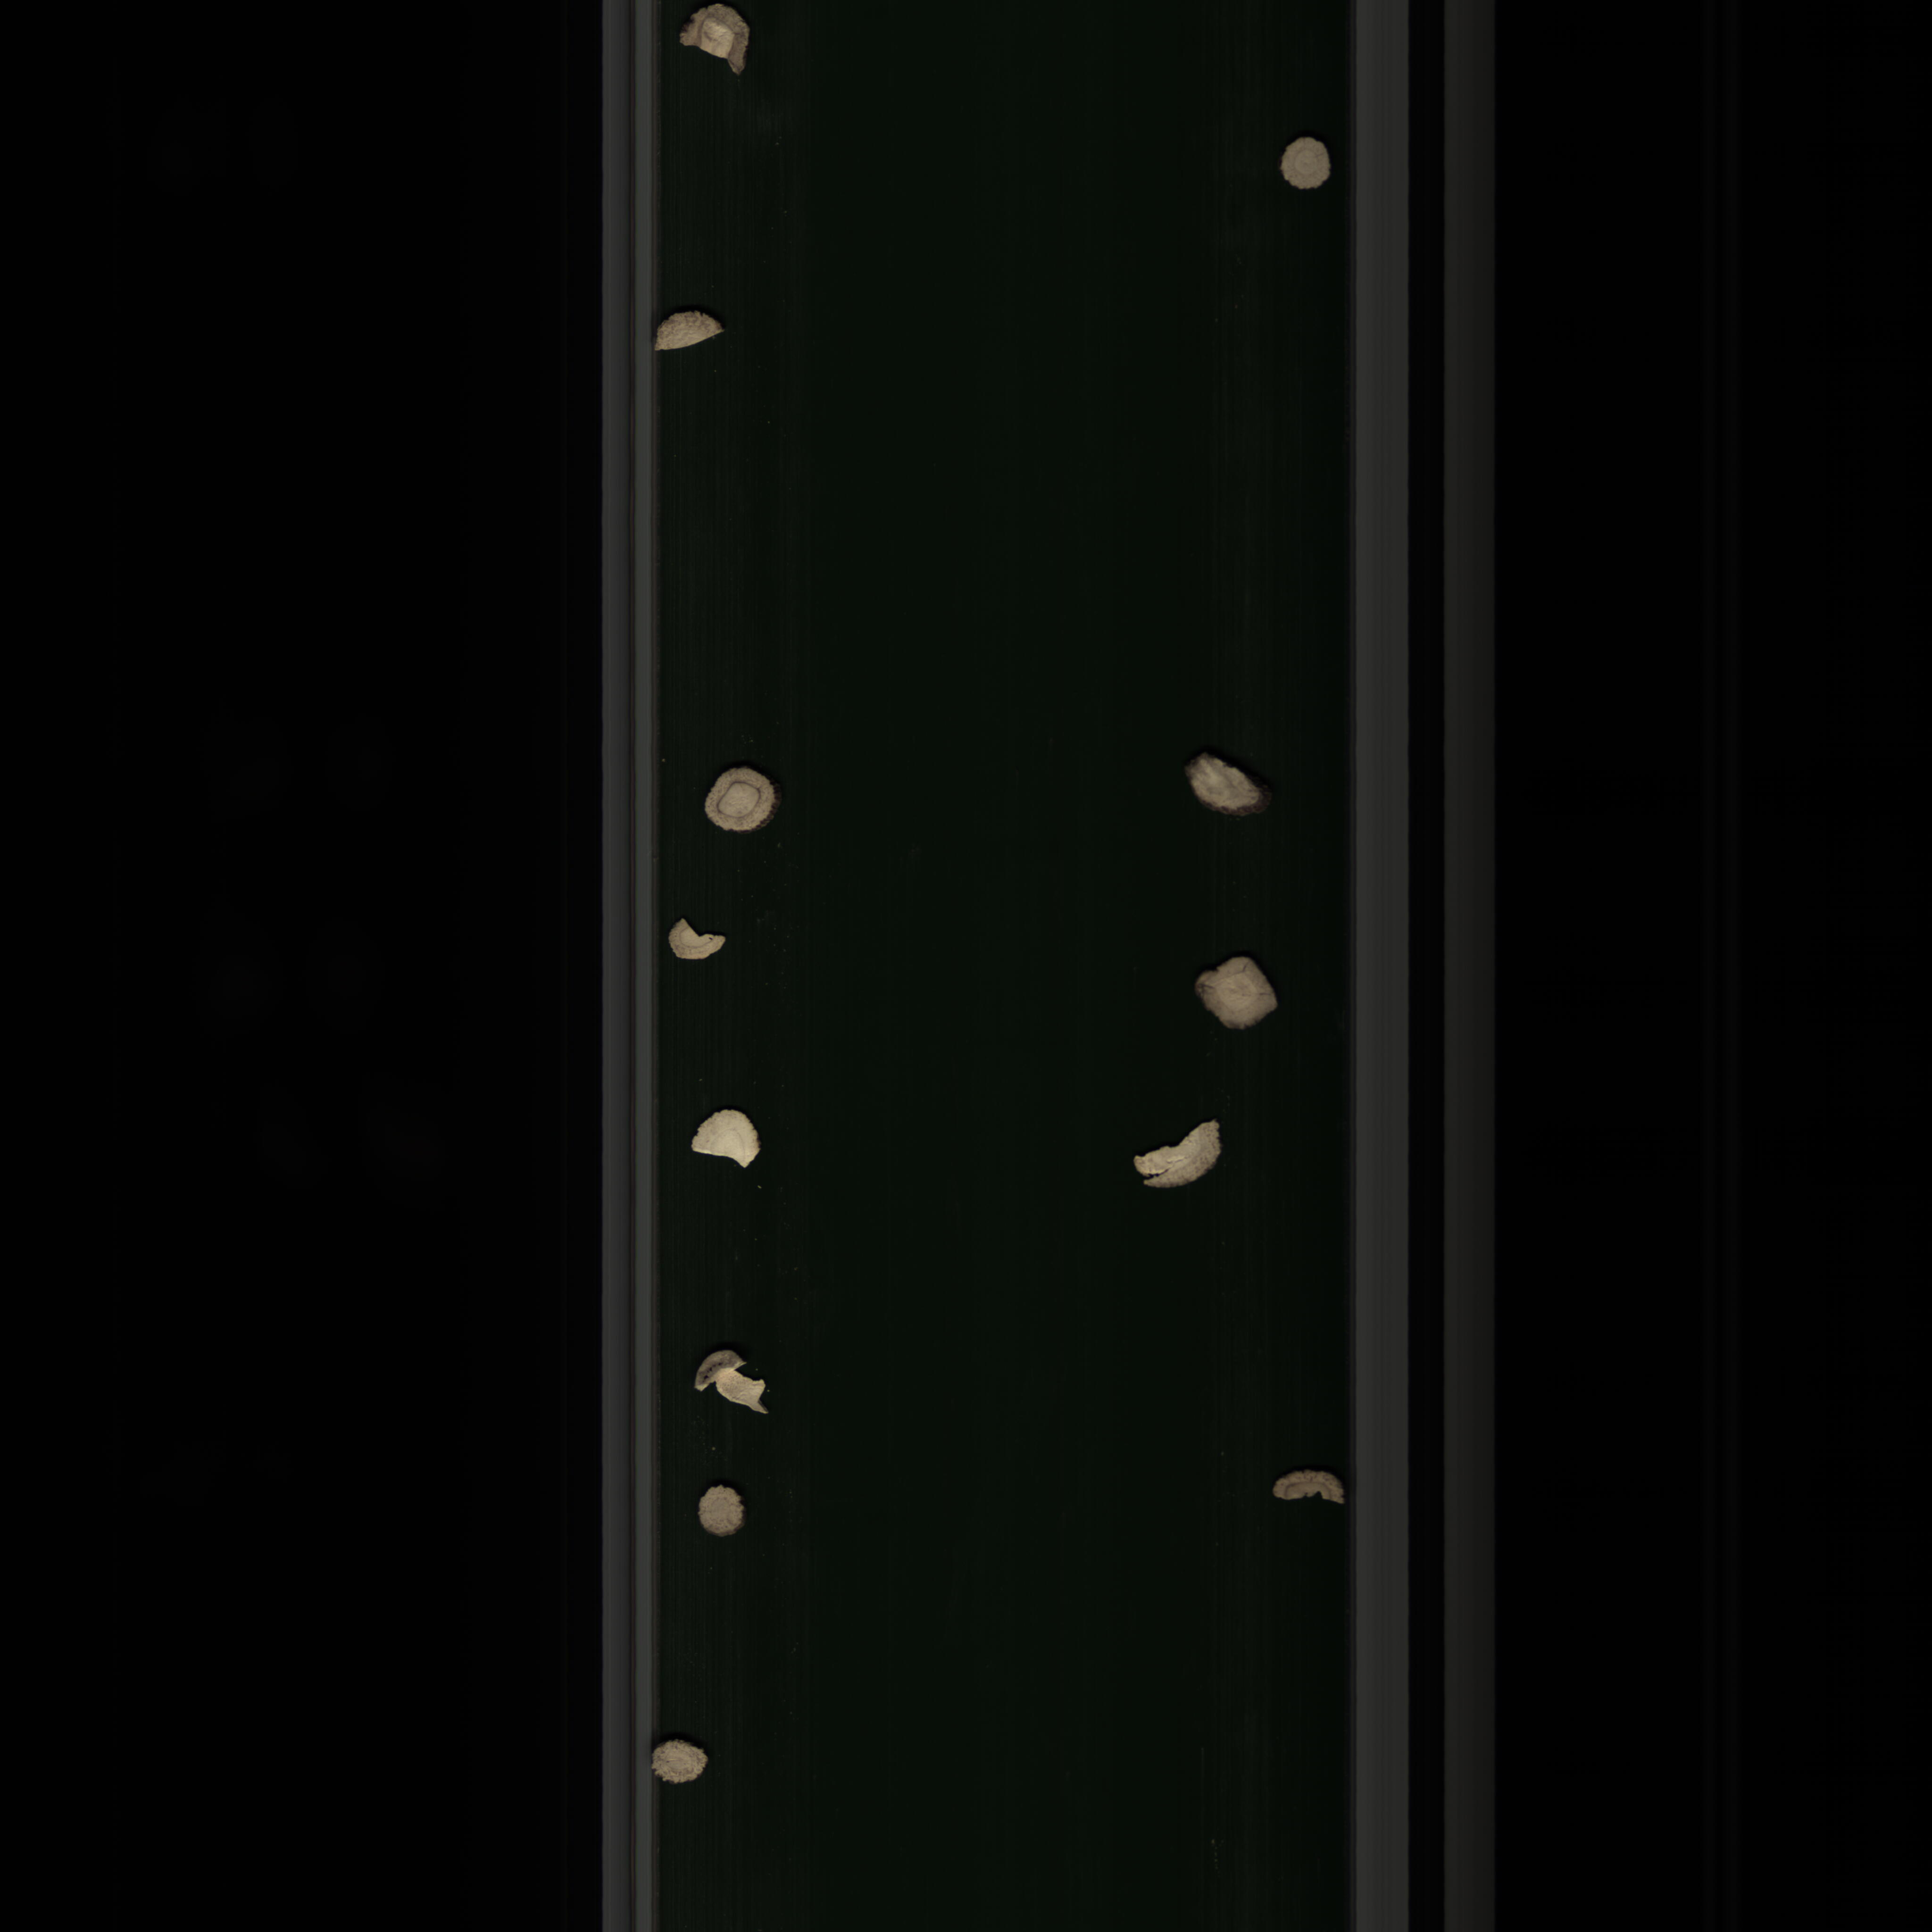bark: (1175, 748, 1270, 833), (1263, 1468, 1350, 1511)
debris: (1120, 1116, 1223, 1203), (685, 1336, 780, 1424), (678, 1097, 775, 1169), (649, 304, 740, 354), (663, 906, 732, 968)
distortion: (640, 1727, 722, 1785)
moldy: (665, 0, 764, 81)
